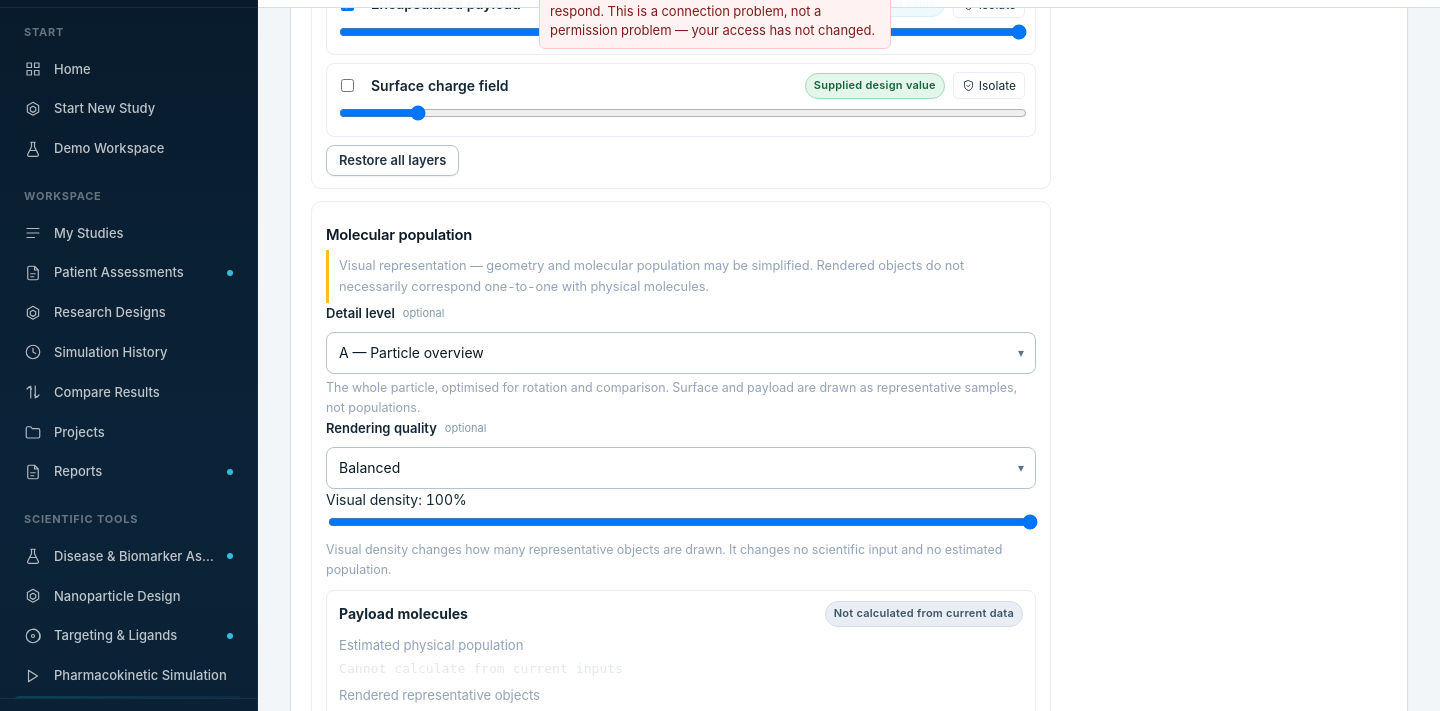
Test: detail levels › switches detail level in the interface
This screenshot has width=1440, height=711.
(page scrolled)
Select "C — Molecular close-up" in the dropdown labelled "Detail level": x=681, y=353 [326, 332, 1036, 374]
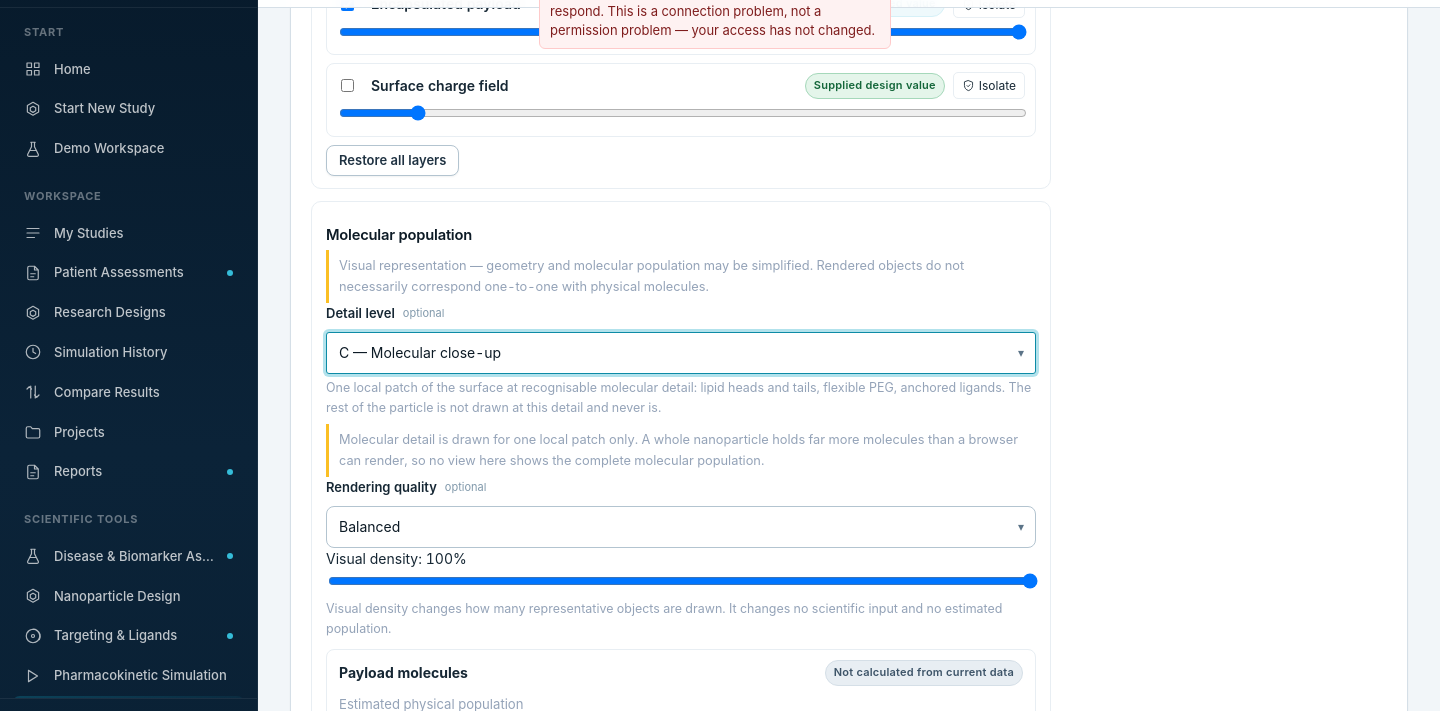
expect the text with test id "molecular-patch-note" shows "local patch only": met, box [339, 432, 1018, 468]
